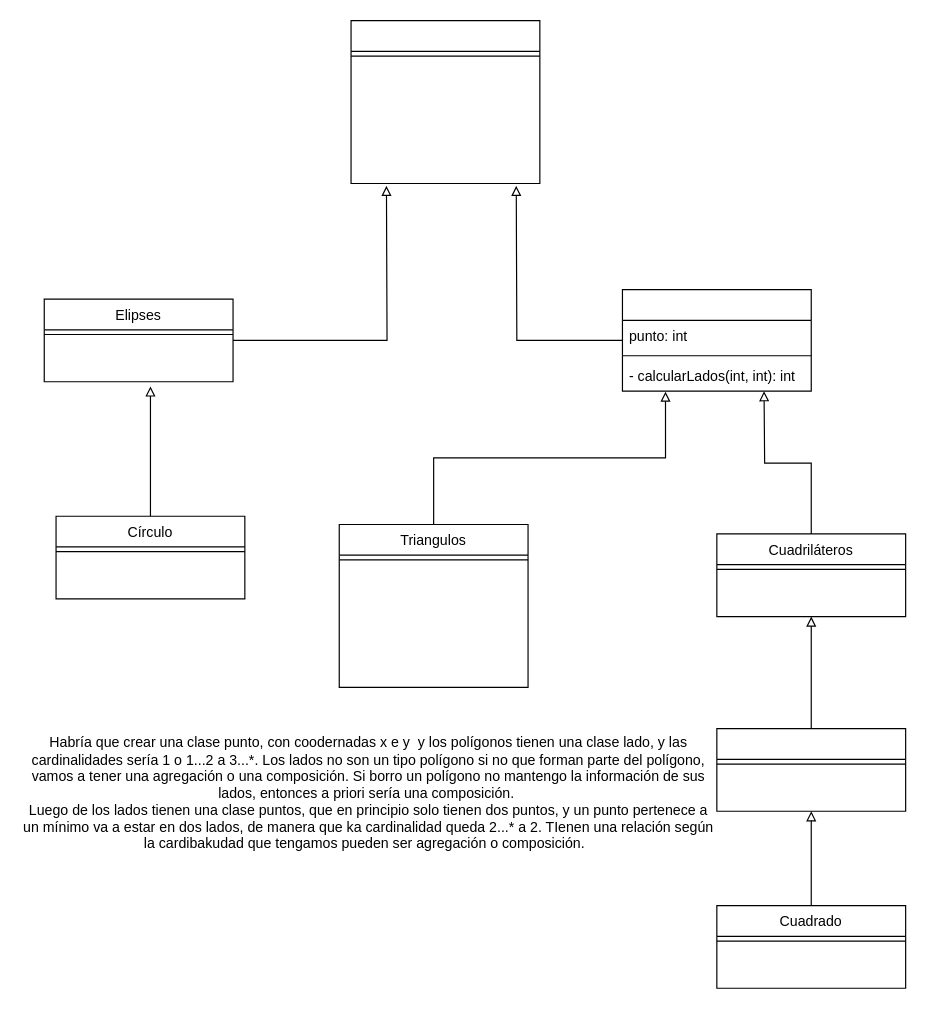
Some shapes in this 926 by 1009 pixel diagram are drawn without their labels. Here are the shapes that lost their labels. From the top down, the box of each, then its label:
(350, 19, 540, 183): Figuras
(621, 289, 811, 391): Polígonos
(716, 727, 906, 811): Rectángulo
